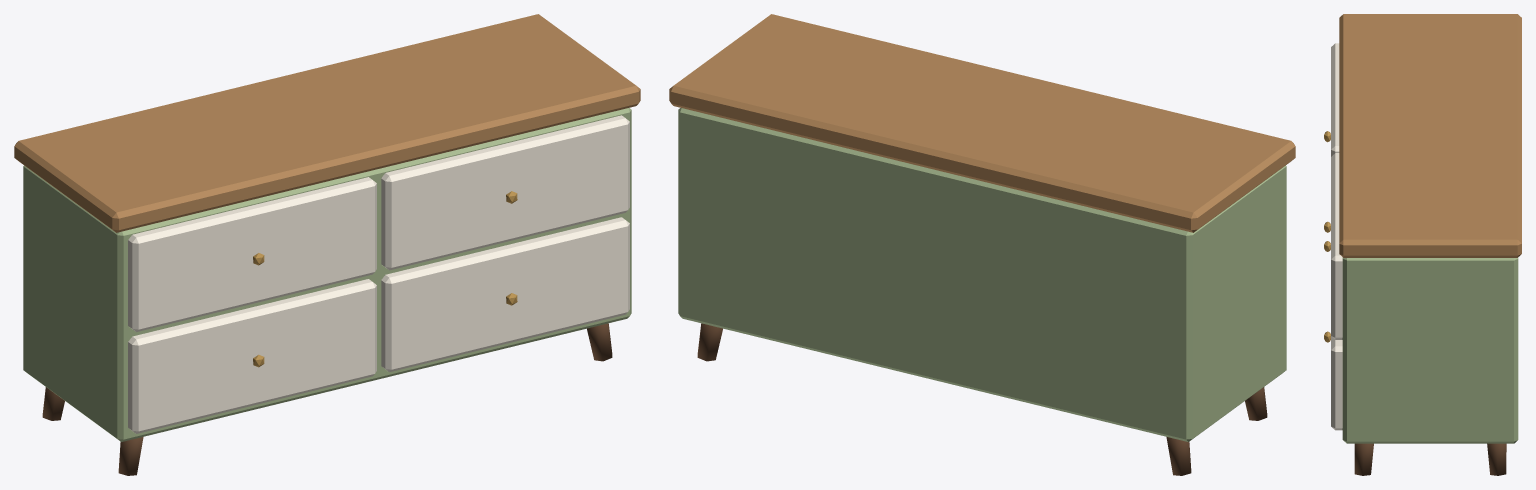
File: dresser.glb
The picture shows the model from 3 angles, left to right: view 1: azimuth 30°, elevation 25°; view 2: azimuth 150°, elevation 25°; view 3: azimuth 270°, elevation 25°; orthographic projection. The views are drawn at different scales.
Parts seen in each view (by area): view 1: dresser_cap, dresser_carcass, dresser_drawer_1_0, dresser_drawer_1_1, dresser_drawer_0_1, dresser_drawer_0_0, dresser_leg_-0.83_-0.23, dresser_leg_0.83_-0.23; view 2: dresser_carcass, dresser_cap, dresser_leg_-0.83_0.23, dresser_leg_0.83_0.23; view 3: dresser_cap, dresser_carcass, dresser_drawer_1_1, dresser_drawer_1_0, dresser_drawer_0_1, dresser_leg_0.83_-0.23, dresser_leg_0.83_0.23.
Boxes of the visible parts, box(x1,y1,x2,y2) form: dresser_cap: box(14, 14, 640, 232); dresser_carcass: box(23, 108, 631, 441); dresser_drawer_1_0: box(381, 217, 629, 372); dresser_drawer_1_1: box(381, 115, 629, 270); dresser_drawer_0_1: box(128, 177, 376, 331); dresser_drawer_0_0: box(128, 279, 376, 433); dresser_leg_-0.83_-0.23: box(118, 437, 143, 475); dresser_leg_0.83_-0.23: box(587, 323, 612, 361); dresser_carcass: box(678, 108, 1286, 441); dresser_cap: box(669, 14, 1295, 232); dresser_leg_-0.83_0.23: box(1166, 437, 1191, 475); dresser_leg_0.83_0.23: box(697, 323, 722, 361); dresser_cap: box(1339, 14, 1521, 257); dresser_carcass: box(1342, 257, 1518, 443); dresser_drawer_1_1: box(1331, 153, 1342, 339); dresser_drawer_1_0: box(1331, 336, 1342, 430); dresser_drawer_0_1: box(1331, 43, 1339, 156); dresser_leg_0.83_-0.23: box(1354, 443, 1373, 475); dresser_leg_0.83_0.23: box(1487, 443, 1506, 475).
Bounding box in the file's own units: 1.9 × 0.945 × 0.6931.
